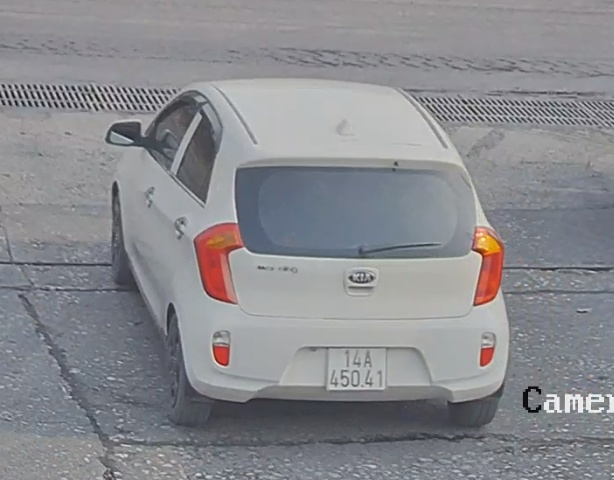vehicle plate: (324, 344, 392, 395)
